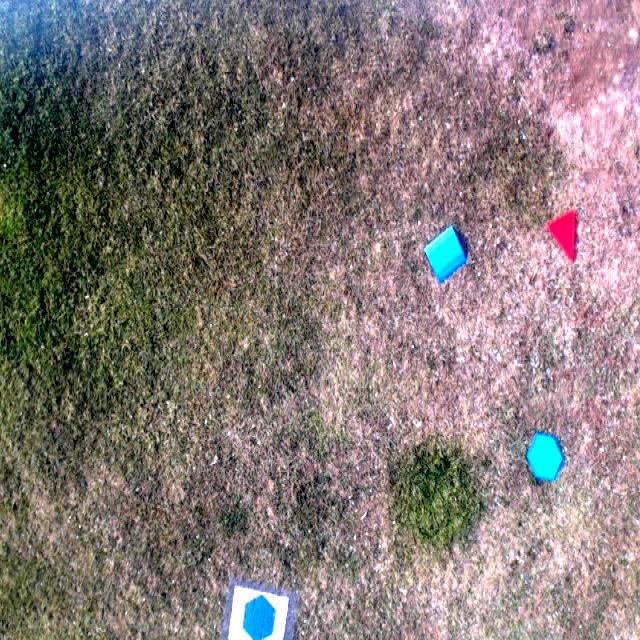blue_hexagon: (524, 429, 566, 484), (241, 591, 278, 640)
blue_square: (421, 223, 470, 287)
red_triangle: (546, 202, 577, 266)
